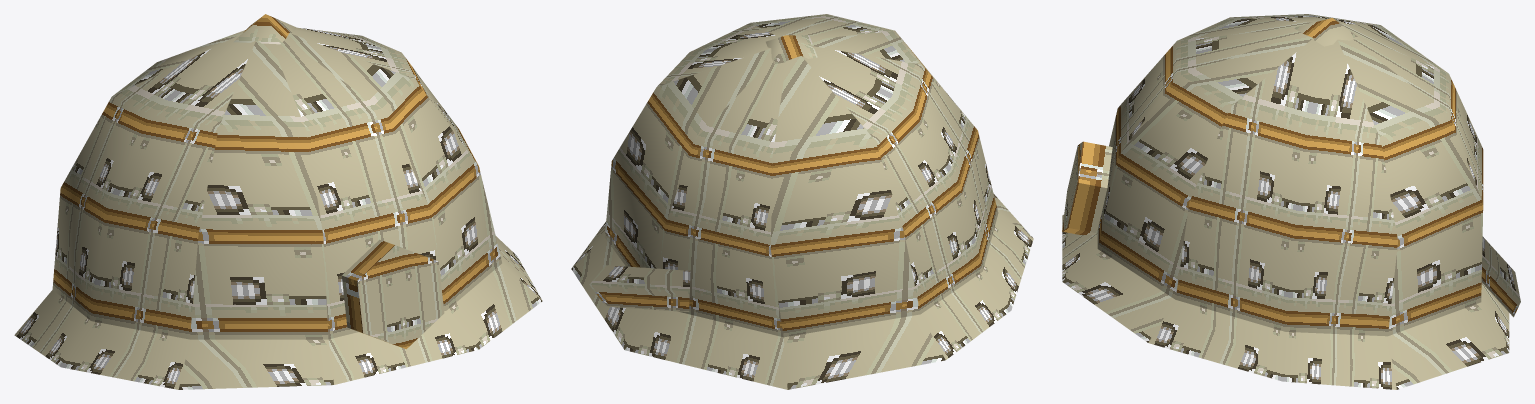
File: code_head15.gltf
3 views of the same model, side by side, from view 1: azimuth 30°, elevation 25°; view 2: azimuth 150°, elevation 25°; view 3: azimuth 270°, elevation 25° (orthographic). The views are drawn at different scales.
Parts seen in each view (by area): view 1: code_head15; view 2: code_head15; view 3: code_head15.
Part boxes in pixels (left/top/right/bottom): code_head15: left=14, top=14, right=542, bottom=389; code_head15: left=571, top=14, right=1033, bottom=389; code_head15: left=1062, top=14, right=1520, bottom=389.
Size of the model in its own units: 0.7632 by 0.5 by 0.7078.
Materials: 1 (1 with a texture image).
